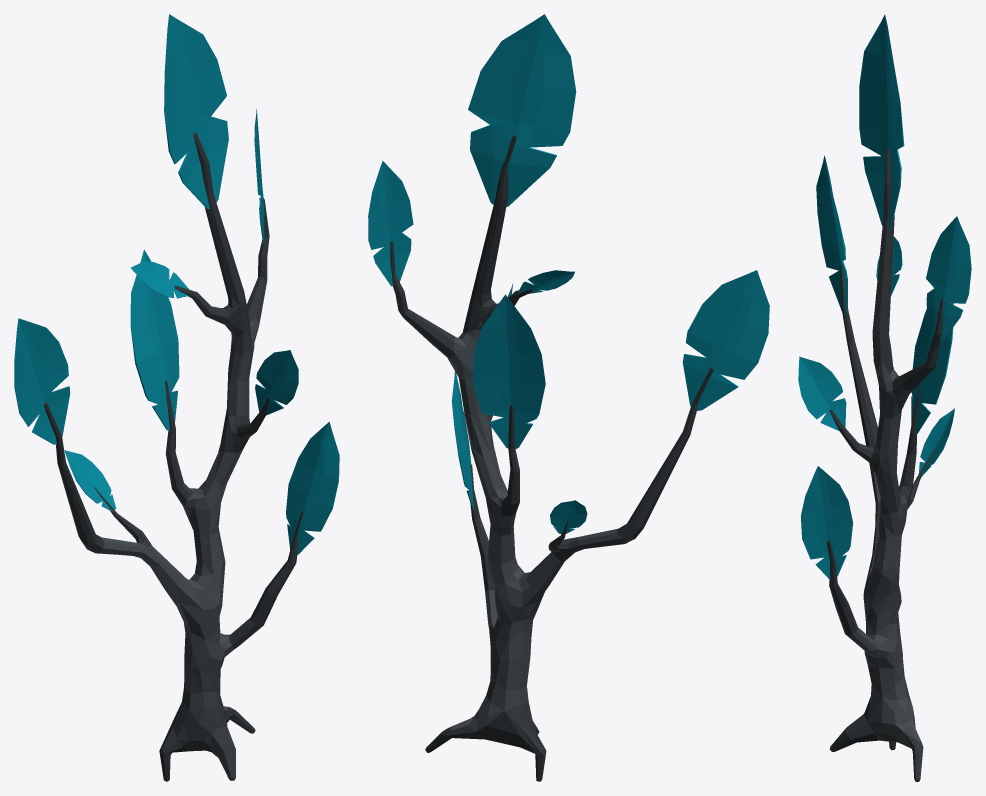
The model's file is SM_Tree_03.glb.
The picture shows the model from 3 angles, left to right: view 1: azimuth 30°, elevation 25°; view 2: azimuth 150°, elevation 25°; view 3: azimuth 270°, elevation 25°; orthographic projection. The views are drawn at different scales.
Visible parts, largest first — view 1: SM_Tree_03; view 2: SM_Tree_03; view 3: SM_Tree_03.
Part boxes in pixels (left/top/right/bottom): SM_Tree_03: left=14, top=14, right=339, bottom=781; SM_Tree_03: left=368, top=14, right=769, bottom=781; SM_Tree_03: left=798, top=14, right=971, bottom=781.
Bounding box in the file's own units: 2.52 × 5.73 × 1.22.
1 material, 1 textured.
